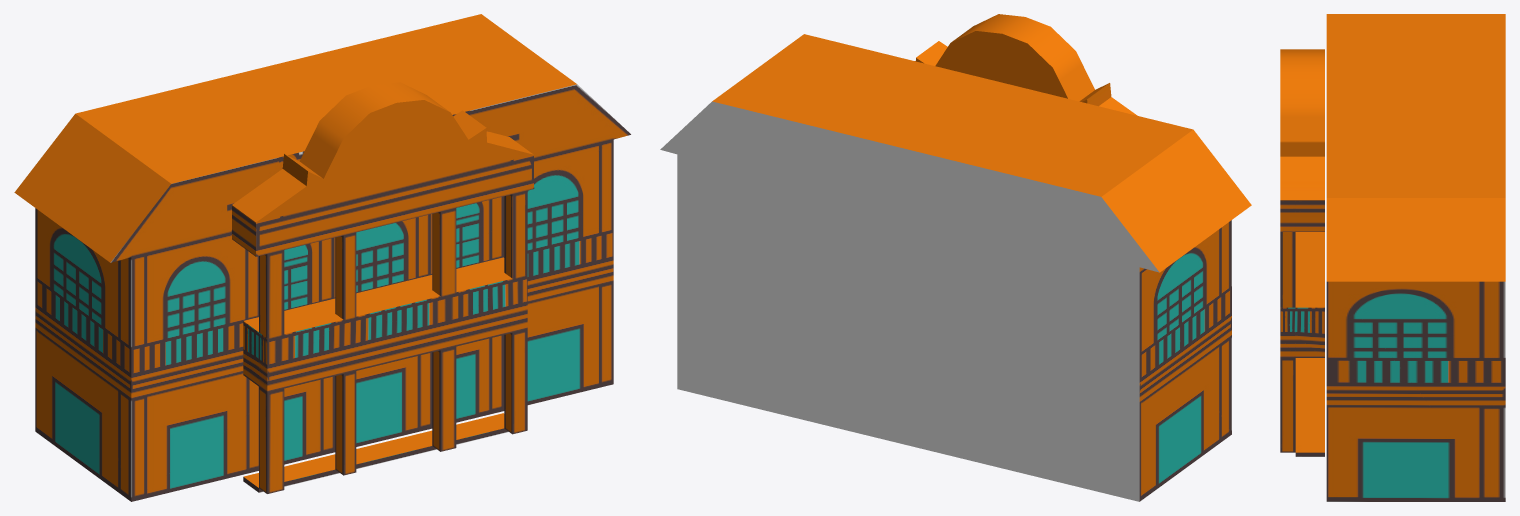
The model's file is Palan.fbx.
3 renders of one model, left to right at view 1: azimuth 30°, elevation 25°; view 2: azimuth 150°, elevation 25°; view 3: azimuth 270°, elevation 25°, orthographic. The views are drawn at different scales.
Parts seen in each view (by area): view 1: polySurface9; view 2: polySurface9; view 3: polySurface9.
Boxes of the visible parts, x1,y1,x2,y2 form: polySurface9: [14, 14, 630, 501]; polySurface9: [660, 14, 1251, 501]; polySurface9: [1280, 14, 1505, 501].
Bounding box in the file's own units: 6.16 × 4.12 × 2.48.
